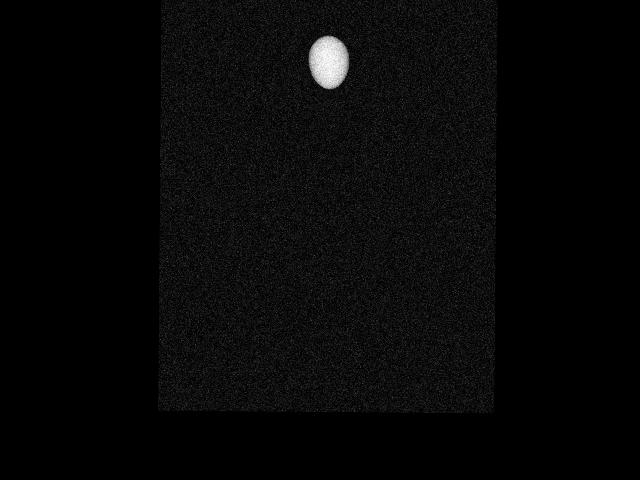egg: (308, 35, 350, 88)
